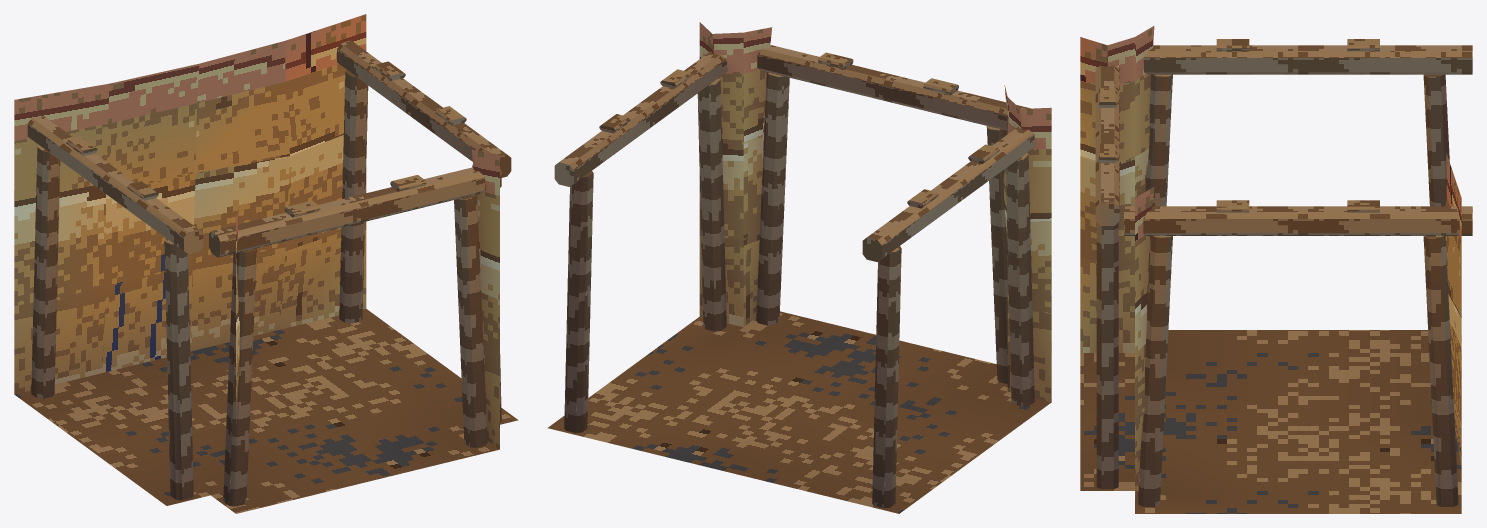
File: wmine.tunnel__tee.glb
3 views of the same model, side by side, from view 1: azimuth 30°, elevation 25°; view 2: azimuth 150°, elevation 25°; view 3: azimuth 270°, elevation 25° (orthographic). The views are drawn at different scales.
Parts seen in each view (by area): view 1: kit_shell_walls, kit_shell_floor, kit_sets, kit_caps, kit_wedges; view 2: kit_shell_floor, kit_sets, kit_shell_walls, kit_caps, kit_wedges; view 3: kit_shell_floor, kit_sets, kit_caps, kit_shell_walls, kit_wedges.
Boxes of the visible parts, <box> form: kit_shell_walls: <box>14,14,499,448</box>; kit_shell_floor: <box>14,309,518,513</box>; kit_sets: <box>31,70,501,506</box>; kit_caps: <box>27,40,511,257</box>; kit_wedges: <box>66,61,466,217</box>; kit_shell_floor: <box>548,311,1051,513</box>; kit_sets: <box>564,72,1034,508</box>; kit_shell_walls: <box>699,22,1051,402</box>; kit_caps: <box>554,45,1034,261</box>; kit_wedges: <box>599,52,999,208</box>; kit_shell_floor: <box>1080,330,1461,513</box>; kit_sets: <box>1096,74,1458,506</box>; kit_caps: <box>1095,45,1472,235</box>; kit_shell_walls: <box>1080,26,1461,500</box>; kit_wedges: <box>1098,39,1379,212</box>.
Size of the model in its own units: 4 by 3.2 by 3.6.
Materials: 5 (5 with a texture image).
